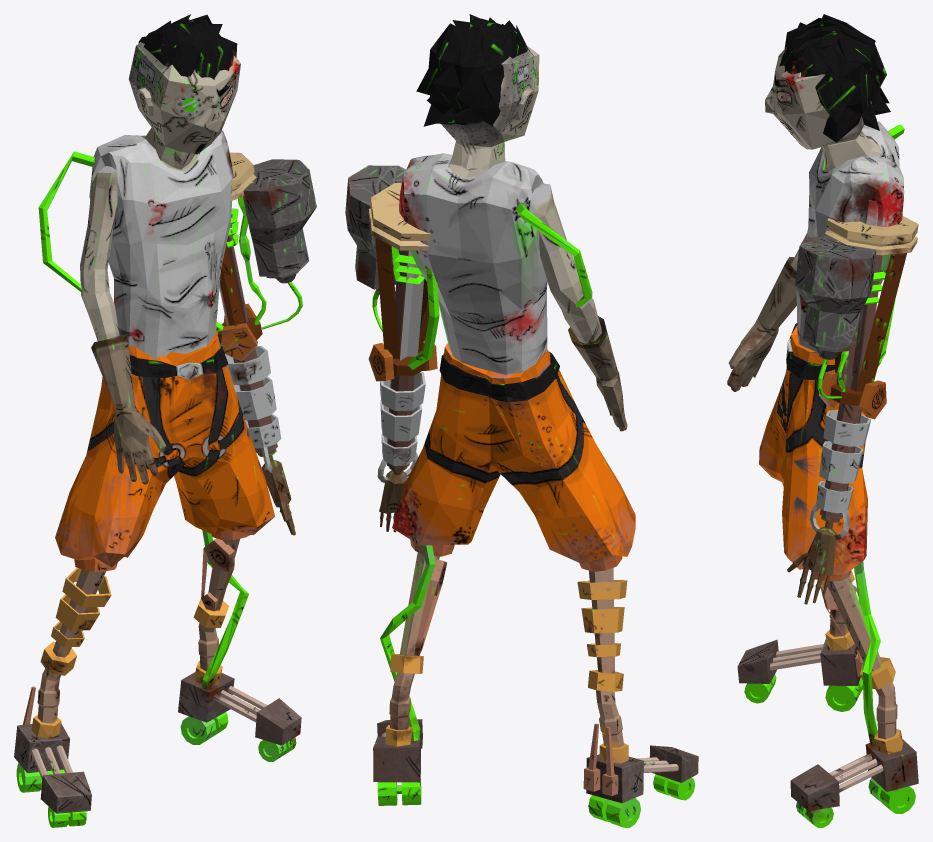
File: CyborgFINALAnimation_000147.obj
3 renders of one model, left to right at view 1: azimuth 30°, elevation 25°; view 2: azimuth 150°, elevation 25°; view 3: azimuth 270°, elevation 25°, orthographic. The views are drawn at different scales.
Visible parts, largest first — view 1: CyborgMesh_Cube.002; view 2: CyborgMesh_Cube.002; view 3: CyborgMesh_Cube.002.
Boxes of the visible parts, x1,y1,x2,y2 form: CyborgMesh_Cube.002: (14, 14, 316, 827); CyborgMesh_Cube.002: (345, 14, 698, 827); CyborgMesh_Cube.002: (727, 14, 918, 827).
Size of the model in its own units: 3.98 by 9.66 by 2.2.
